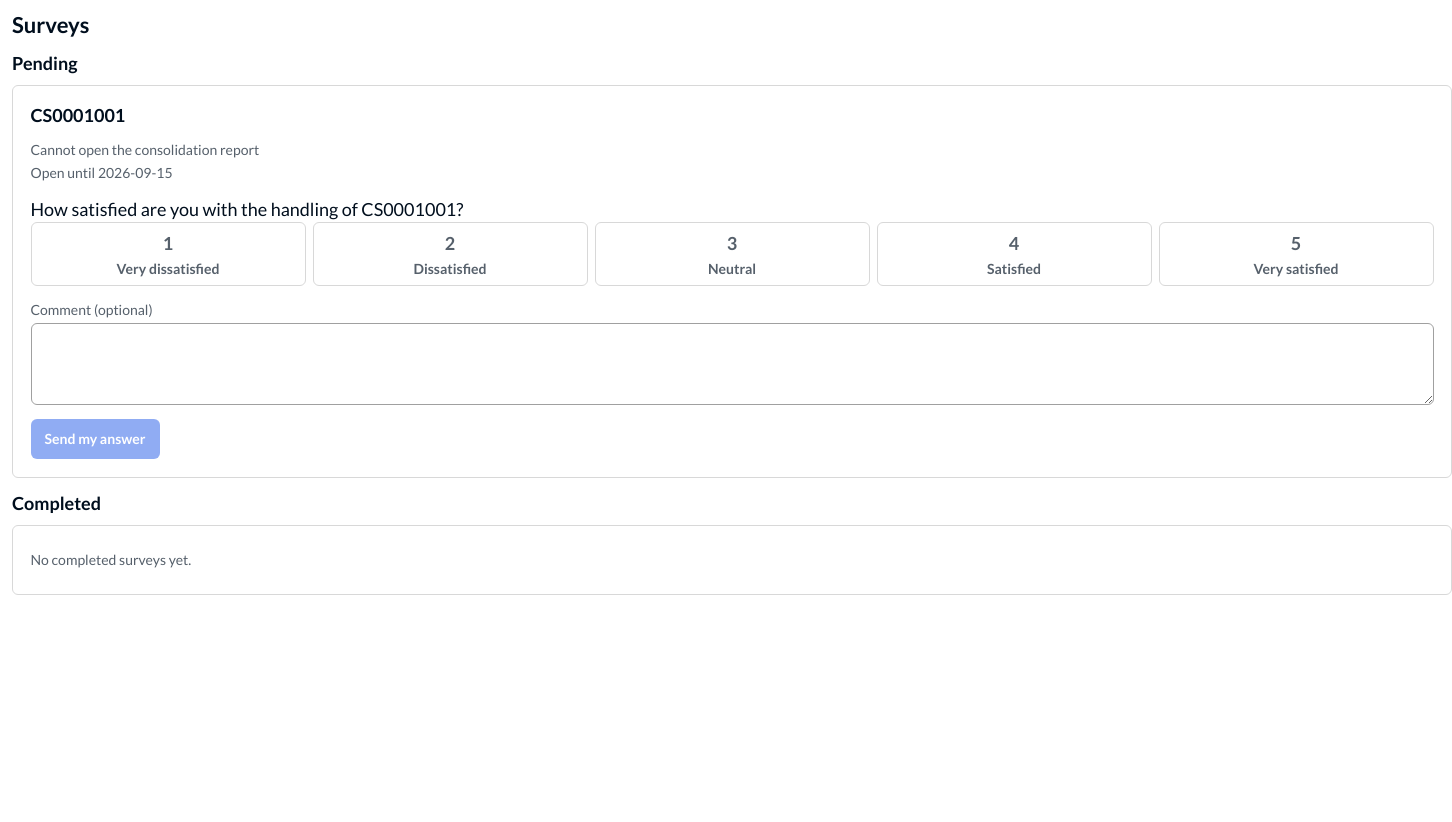
Test case: portal surveys page › posts the score and the comment, then reads the list again and thanks the client
Click the button with aria-label "4, Satisfied" at (1014, 254), box [876,222,1152,286]
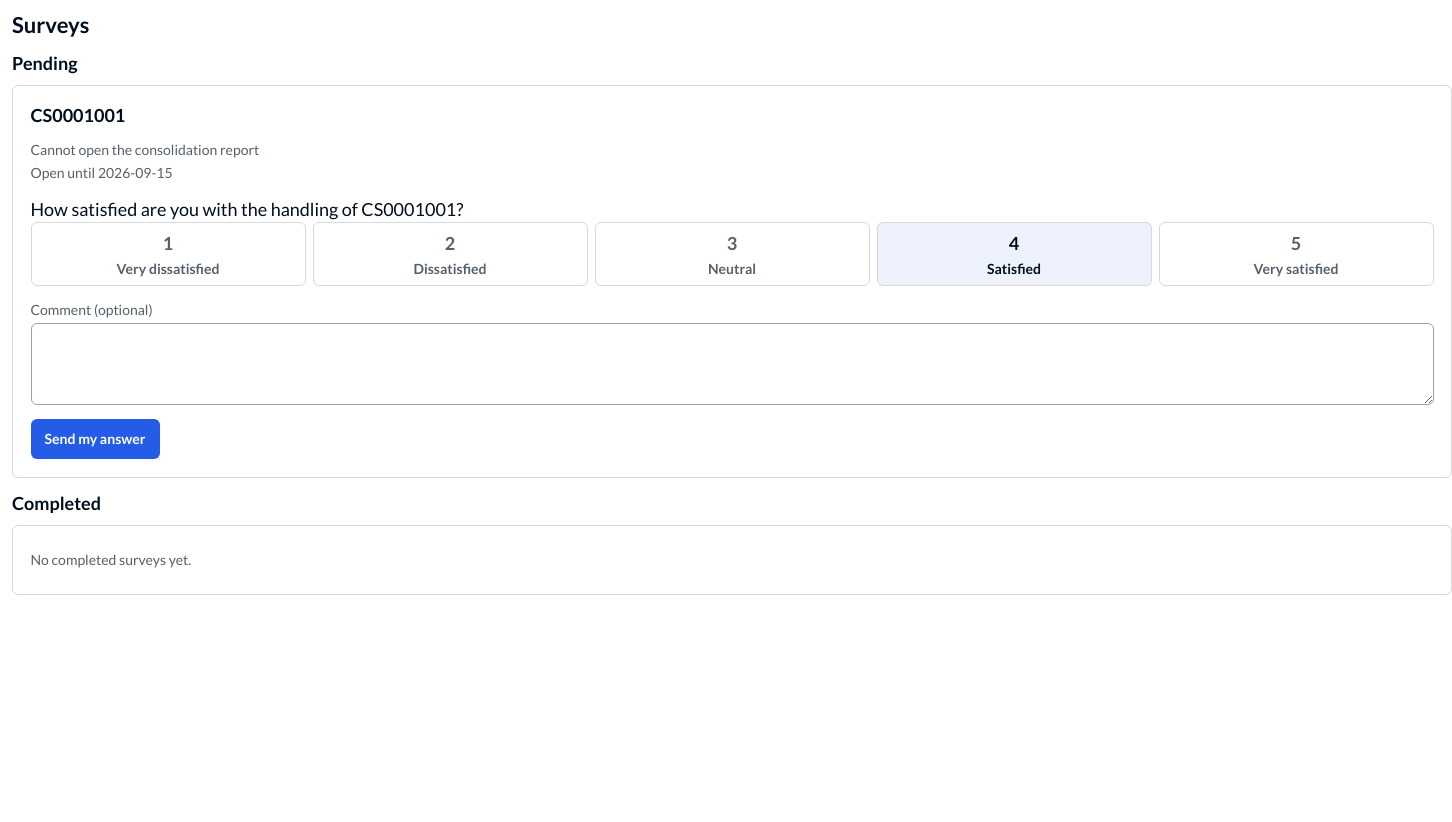
Now the button with aria-label "4, Satisfied" is pressed, box [876,222,1152,286]
Type "  Quick and clear  " into the text box labelled "Comment (optional)" at (732, 364), box [30,323,1434,405]
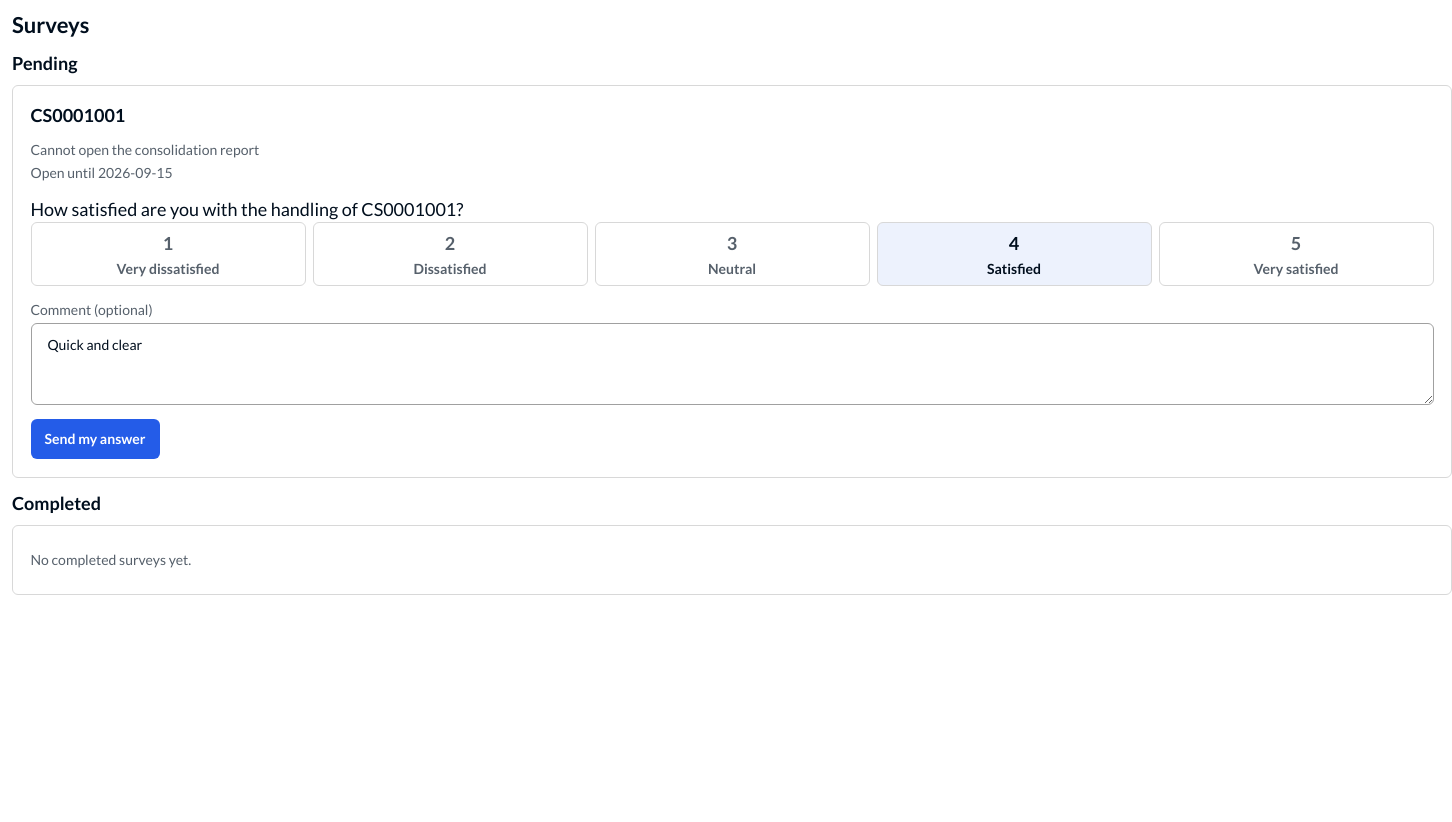
Click the button "Send my answer" at (95, 439), box [30,419,160,459]
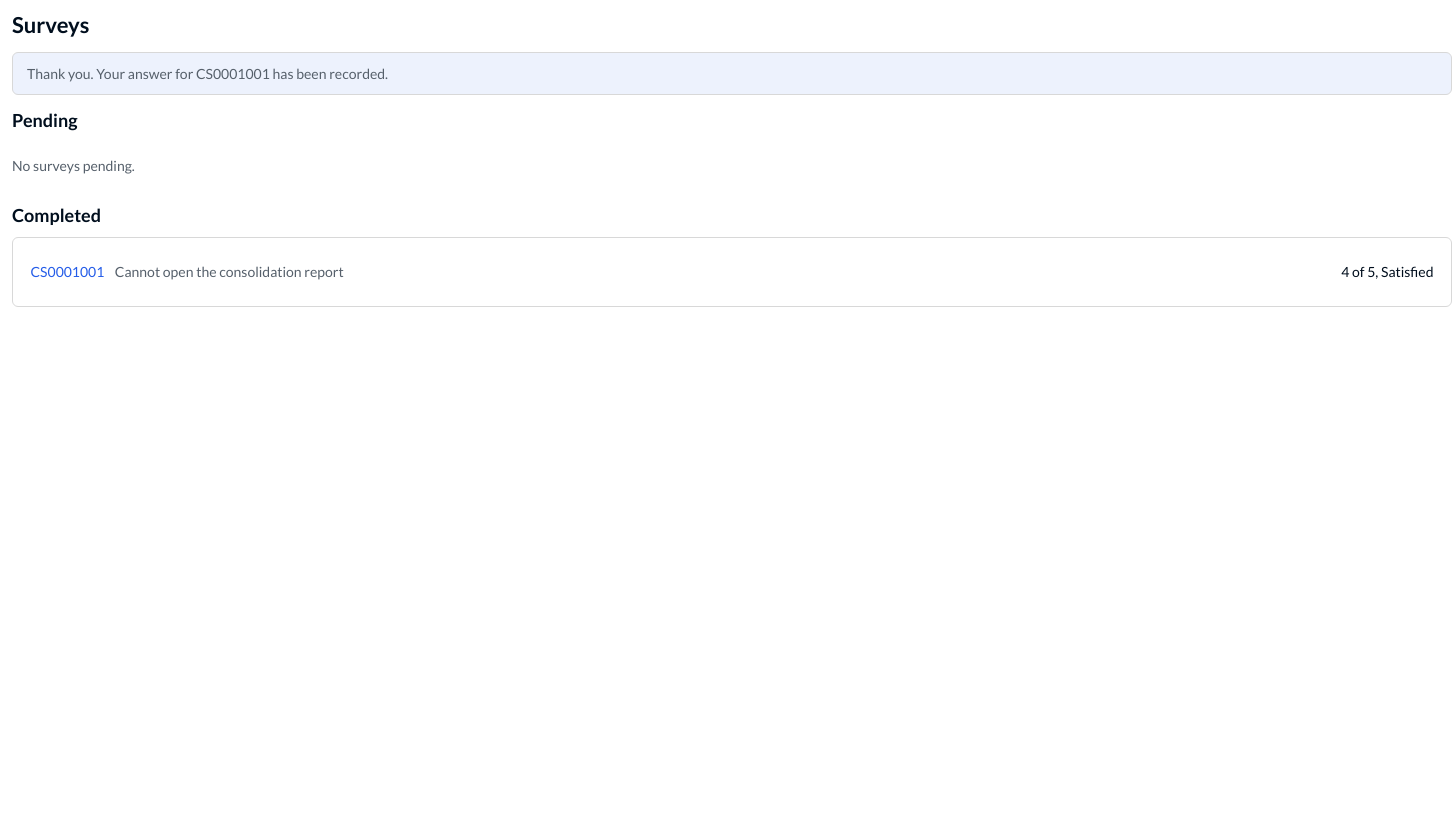
Now the text "Thank you. Your answer for CS0001001 has been recorded." is shown, box [12,52,1451,95]
Now the text "No surveys pending." is shown, box [12,157,135,174]
Now the list named "Completed surveys" shows "4 of 5, Satisfied", box [1341,263,1434,280]
